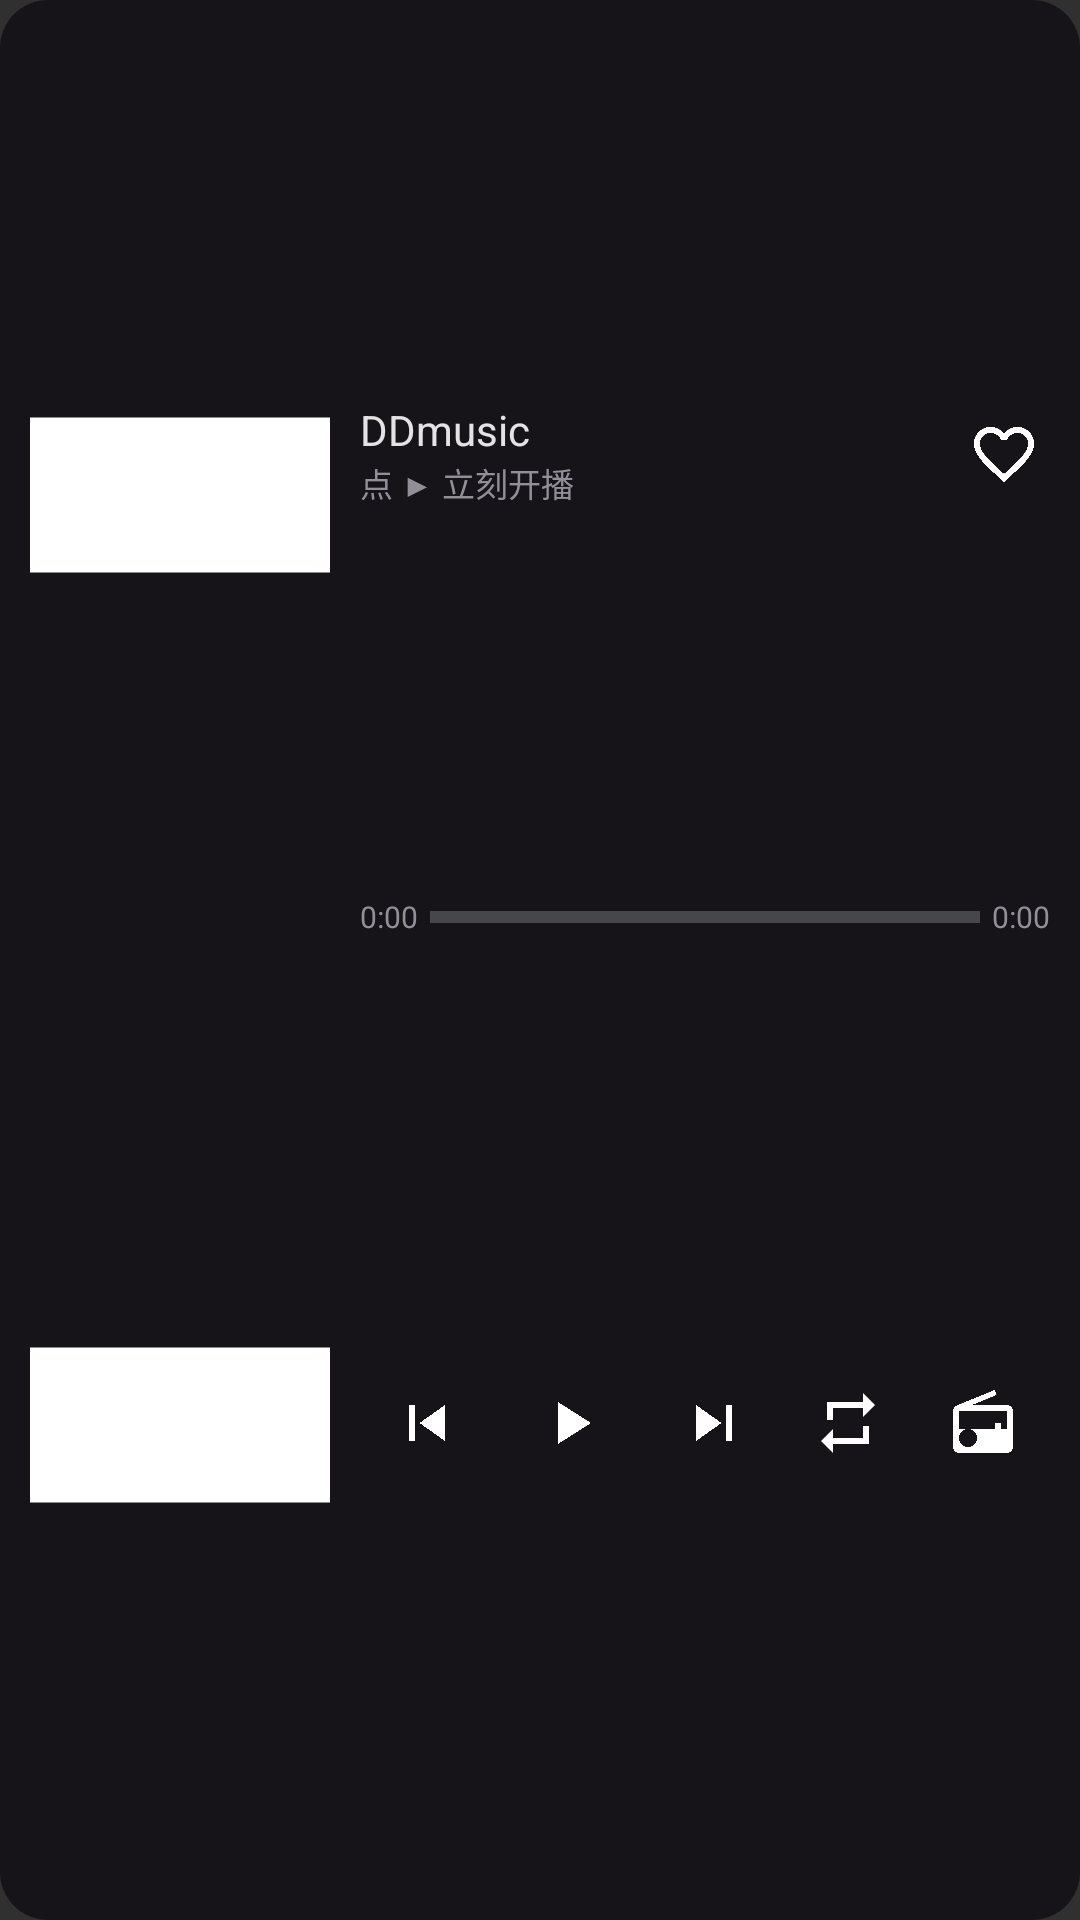

Icons on this 1080px x 1920px Android screen, each with its box as {"x1": x1, "y1": y1, "x2": x2, "y2": y2}:
上一首: {"x1": 409, "y1": 1405, "x2": 445, "y2": 1441}
下一首: {"x1": 696, "y1": 1405, "x2": 732, "y2": 1441}
喜欢: {"x1": 974, "y1": 427, "x2": 1034, "y2": 482}
播放/暂停: {"x1": 558, "y1": 1402, "x2": 590, "y2": 1444}
播放模式: {"x1": 821, "y1": 1393, "x2": 875, "y2": 1453}
随机电台: {"x1": 953, "y1": 1390, "x2": 1013, "y2": 1453}
